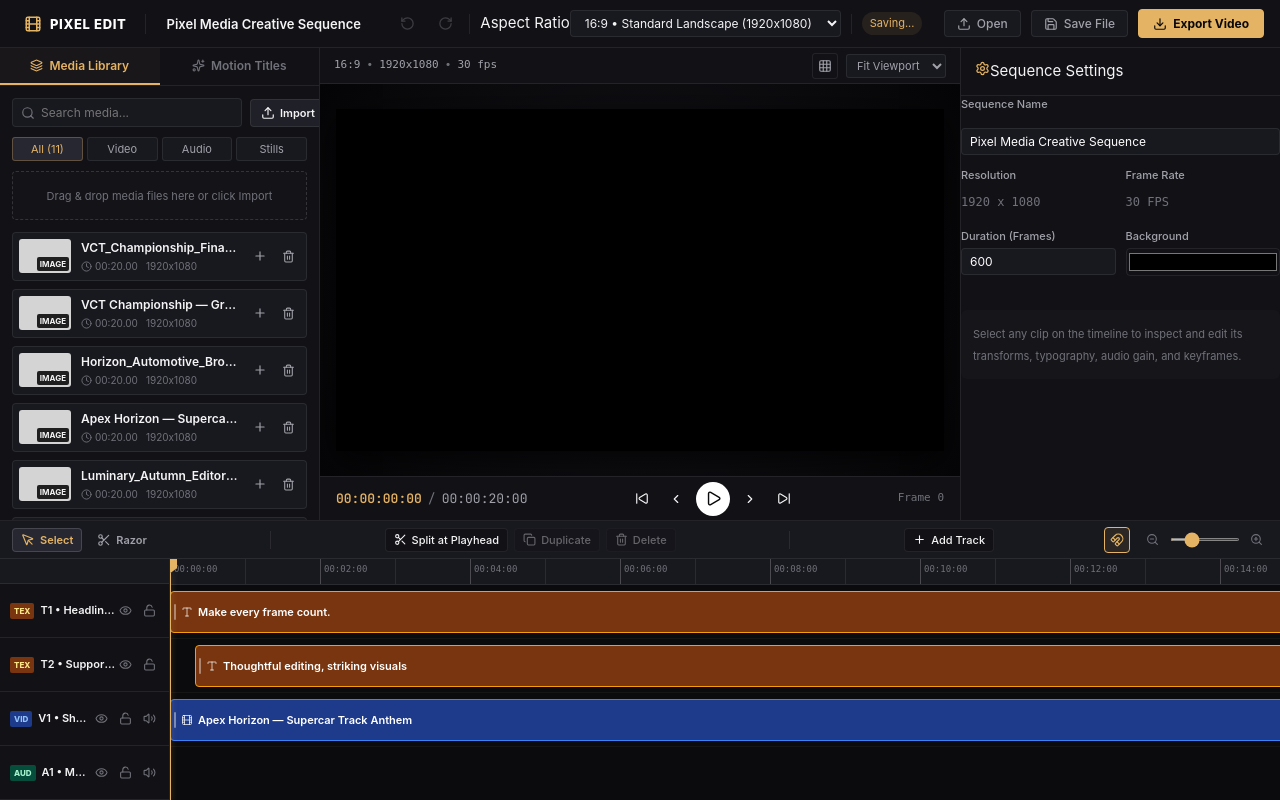
Test case: Video & Motion Graphics Editor Core Engine › Editor Workspace UI & Interactions › selects a timeline clip and displays its transform & typography controls in Inspector
# Click to select
What coordinates should you click on to do the following:
click the text "Make every frame count."
I would click on:
 (264, 612)
Its box is [198, 604, 331, 620].
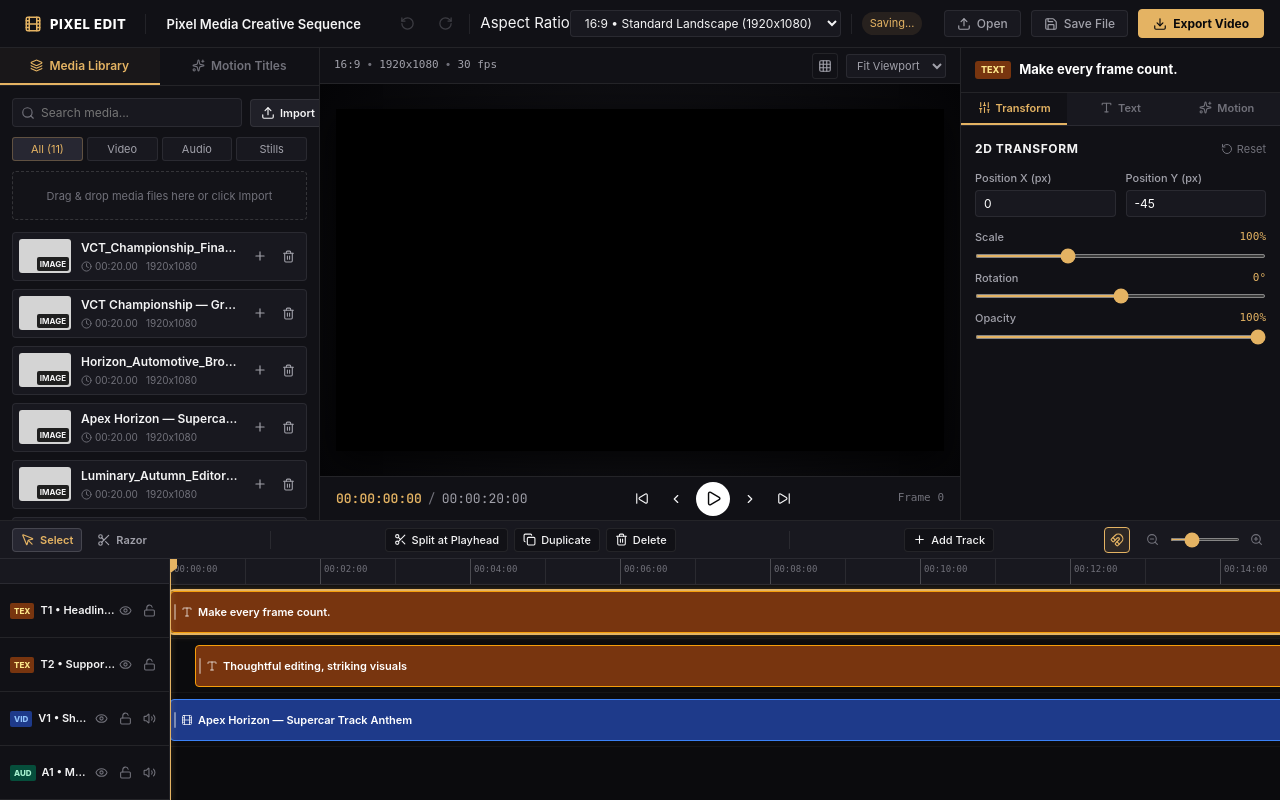
Now the text "2D Transform" is shown, box [975, 140, 1078, 158]
Now the button "Text" is shown, box [1067, 92, 1174, 124]
Now the button "Motion" is shown, box [1174, 92, 1279, 124]
